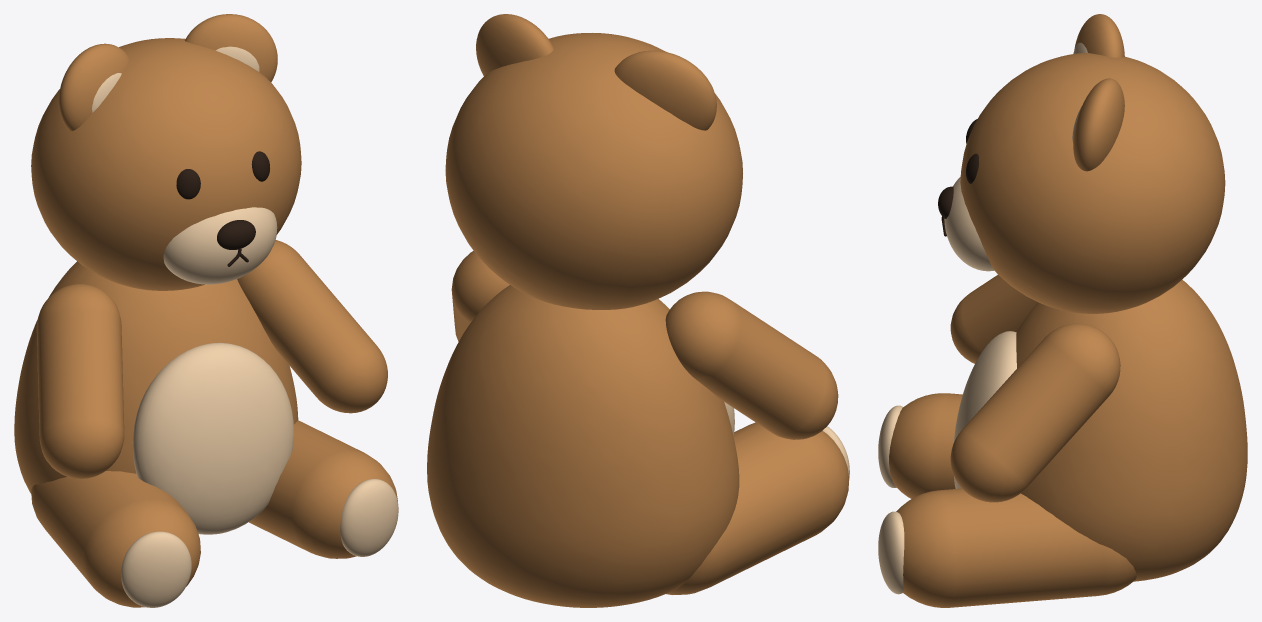
File: cuddle-bear-plush.glb
3 renders of one model, left to right at view 1: azimuth 30°, elevation 25°; view 2: azimuth 150°, elevation 25°; view 3: azimuth 270°, elevation 25°, orthographic. The views are drawn at different scales.
Visible parts, largest first — view 1: head, arm (×2), belly, leg (×2), body, paw-pad (×2), ear (×2), muzzle, nose, eye; view 2: body, head, arm (×2), leg, ear (×2); view 3: head, body, leg (×2), arm (×2), ear (×2), belly, paw-pad (×2), muzzle.
Part boxes in pixels (x1,y1,x2,y2): head: (31, 38, 301, 290); arm (×2): (36, 240, 387, 478); belly: (132, 342, 293, 534); leg (×2): (31, 420, 397, 607); body: (14, 261, 298, 534); paw-pad (×2): (121, 479, 398, 607); ear (×2): (59, 14, 277, 130); muzzle: (163, 207, 277, 284); nose: (217, 220, 255, 249); eye: (176, 169, 200, 199); body: (427, 285, 739, 607); head: (445, 33, 742, 309); arm (×2): (451, 251, 838, 439); leg: (666, 422, 848, 594); ear (×2): (476, 14, 716, 130); head: (960, 53, 1225, 313); body: (1016, 279, 1247, 581); leg (×2): (889, 393, 1136, 607); arm (×2): (950, 275, 1120, 502); ear (×2): (1073, 14, 1124, 171); belly: (954, 331, 1016, 488); paw-pad (×2): (878, 405, 904, 594); muzzle: (944, 177, 993, 271).
Size of the model in its own units: 0.1981 by 0.2753 by 0.1841.
